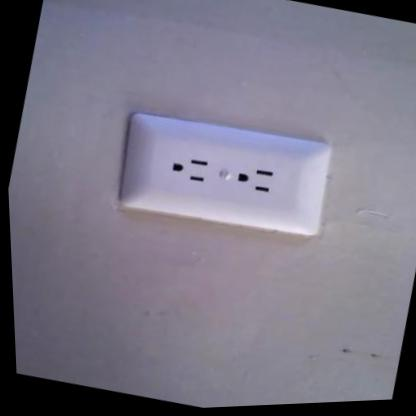OUTLET: (113, 105, 335, 247)
